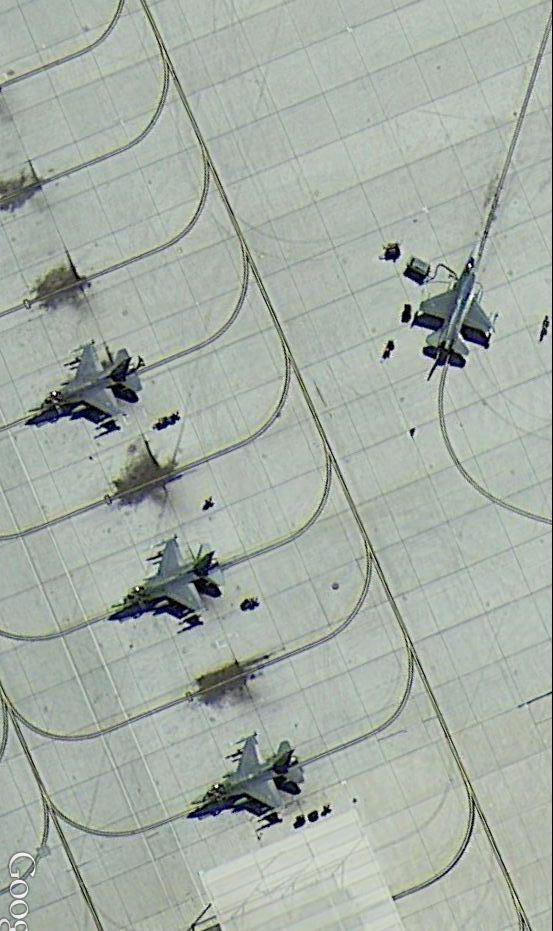F-16: (107, 532, 224, 629), (21, 338, 147, 428), (189, 729, 308, 822), (414, 250, 493, 367)
